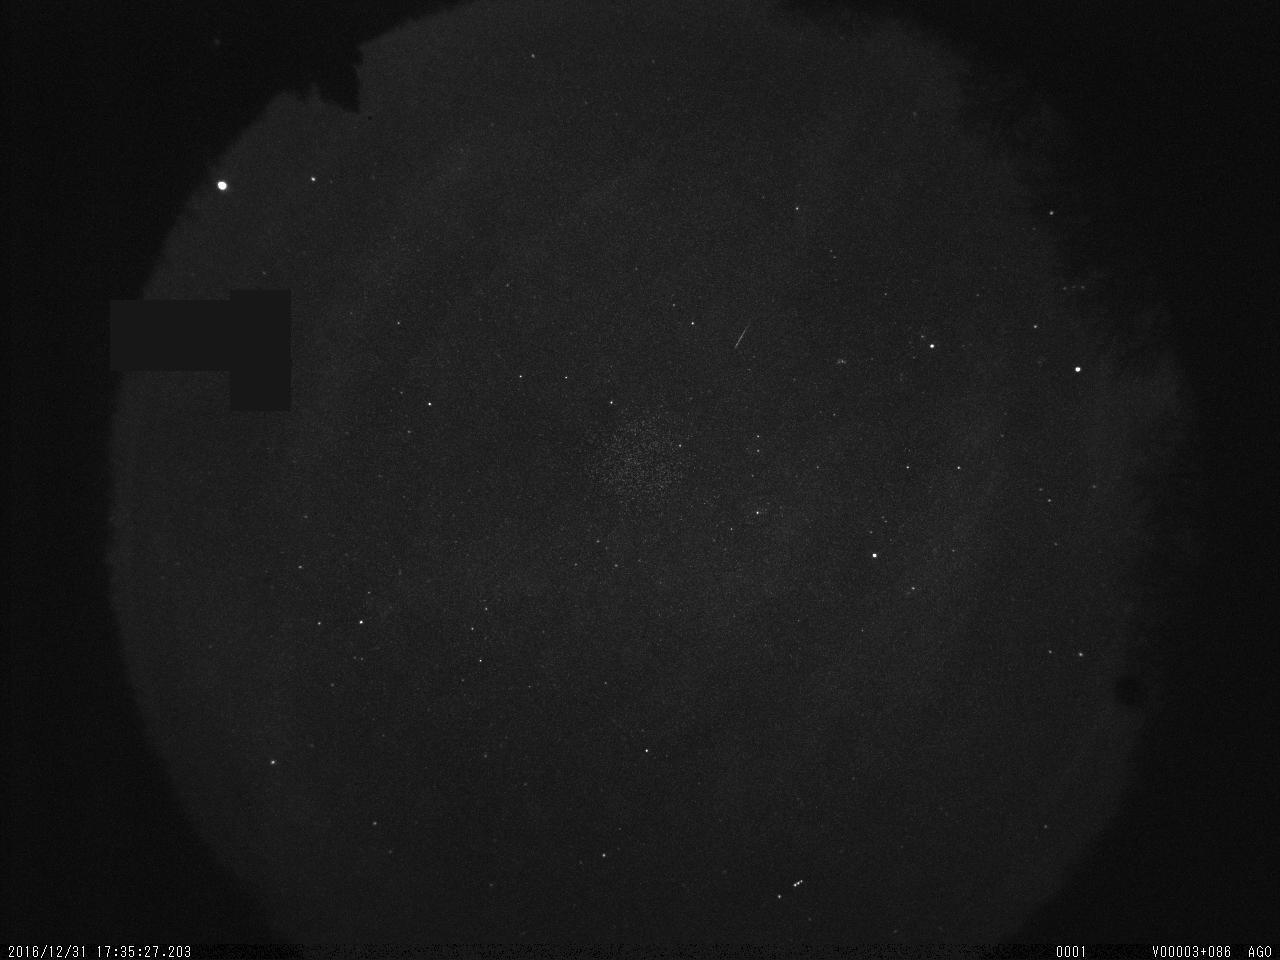meteor: (725, 317, 759, 356)
